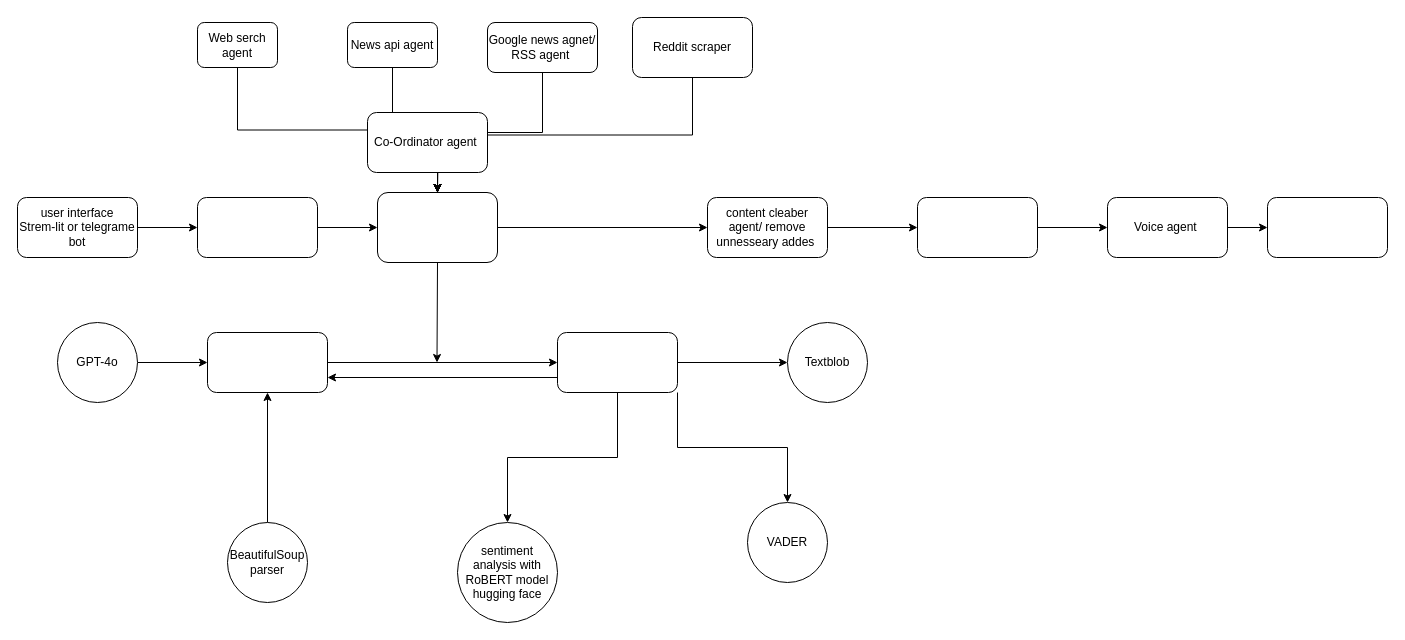
Image size: 1405x640. Some labels were removed from this diagram. Here are the shapes that lost their labels. From the top down, the centre of each, then its label:
(x=257, y=227): Filtering agent sport/geopolitical/ market
(x=437, y=227): News Retrieval Master Agent
(x=977, y=227): Summarize agent
(x=1327, y=227): user interface/telegrame bot or email
(x=267, y=362): fact checker GPT-4o/claude politifact
(x=617, y=362): Bias detect agent
